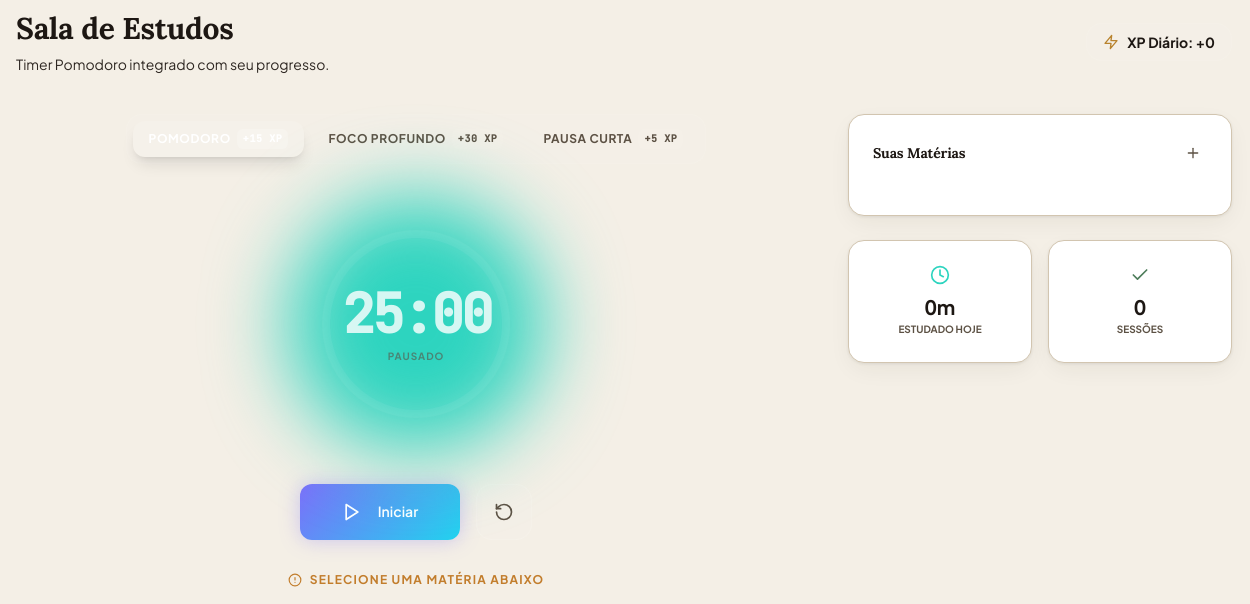
Test case: SMOKE — UI Renders › Study renderiza e botão de iniciar Pomodoro funciona
The image size is (1250, 604).
Click the text "Pausa Curta": (588, 139) [544,131,632,147]
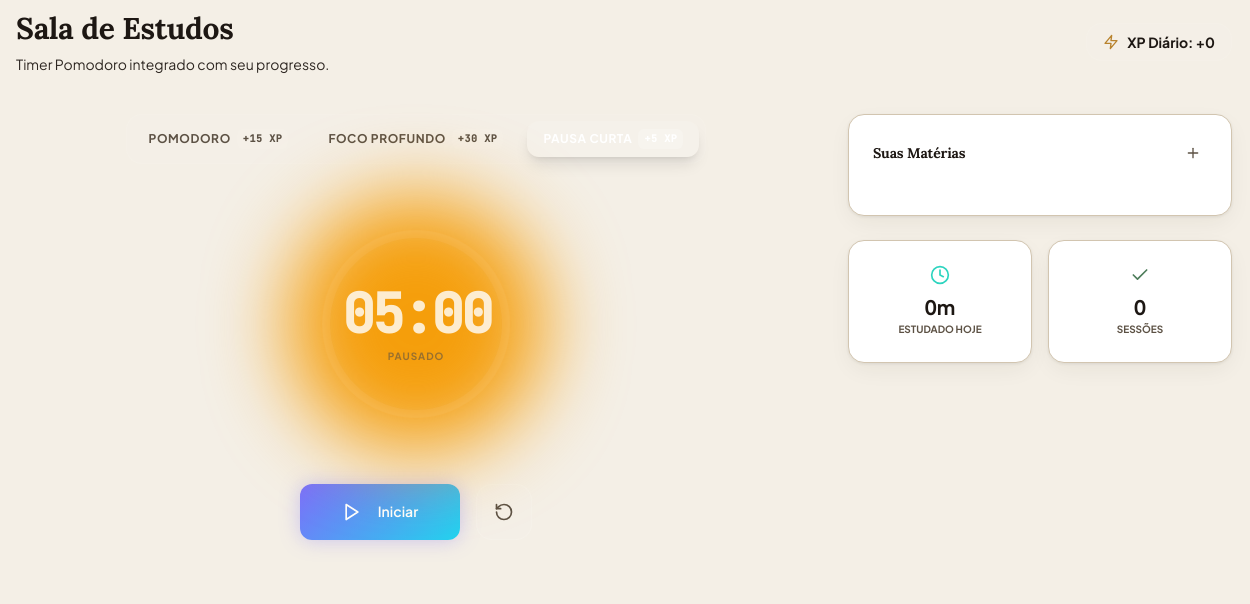
Click the button "Iniciar": (380, 512) [300,484,460,540]
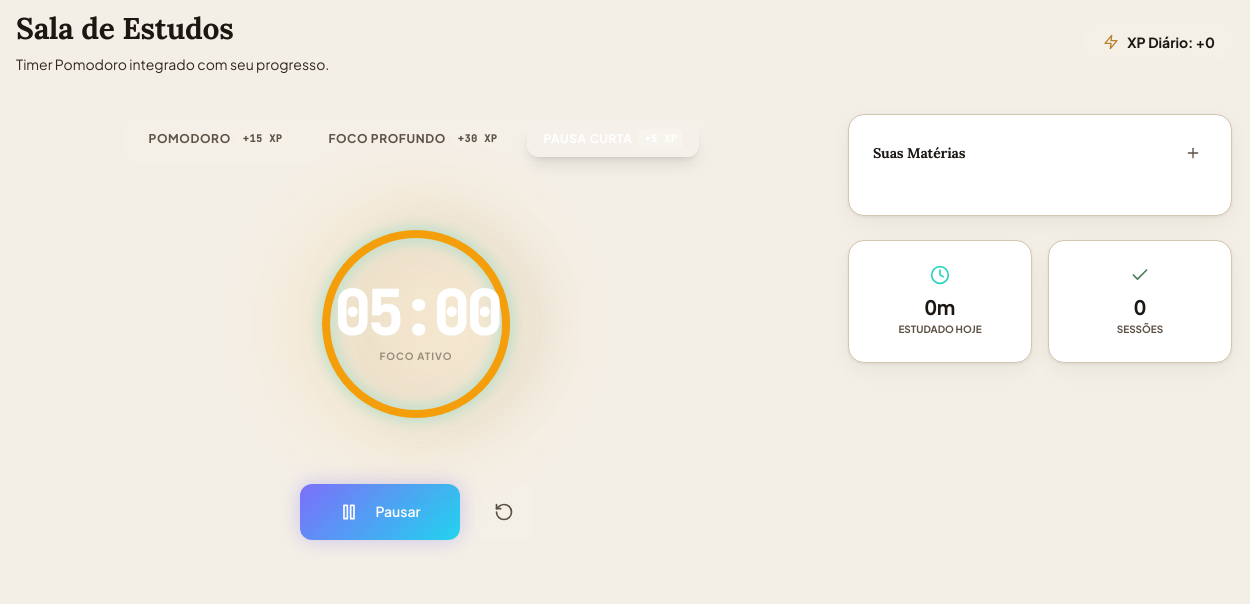
expect the button "Pausar" is shown: met, box [300,484,460,540]
